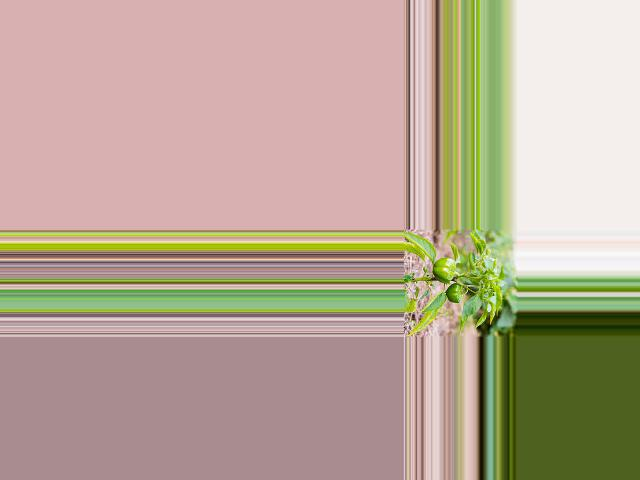bell_pepper: (444, 283, 464, 304)
